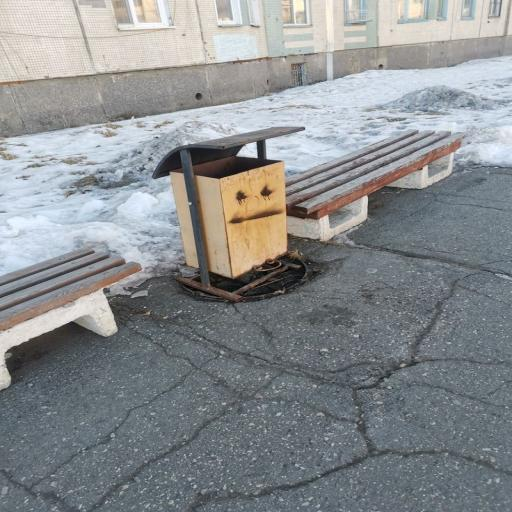ramp: (153, 127, 303, 285)
trash_bin: (0, 249, 141, 390), (286, 130, 465, 240)
